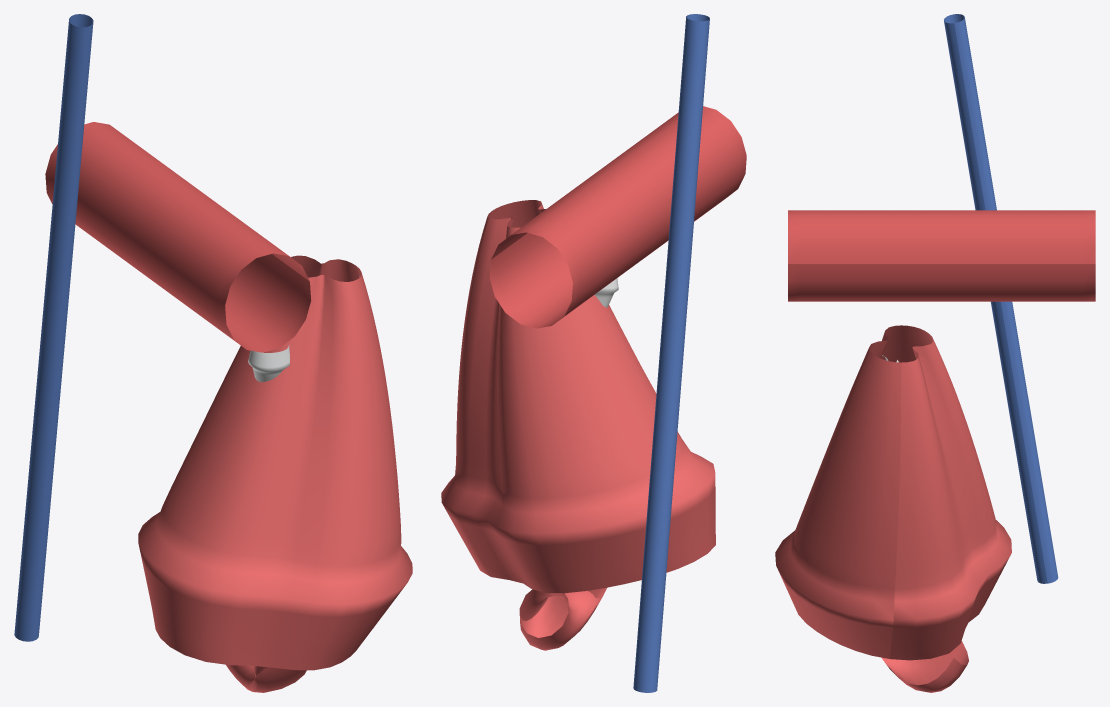
File: cardiovascular.glb
3 renders of one model, left to right at view 1: azimuth 30°, elevation 25°; view 2: azimuth 150°, elevation 25°; view 3: azimuth 270°, elevation 25°, orthographic. The views are drawn at different scales.
Parts seen in each view (by area): view 1: Mesh_Bovine_Cor, Mesh_Bovine_Aorta, Mesh_Bovine_VenaAzygosSinistra, Mesh_Bovine_OssaCordis; view 2: Mesh_Bovine_Cor, Mesh_Bovine_Aorta, Mesh_Bovine_VenaAzygosSinistra; view 3: Mesh_Bovine_Cor, Mesh_Bovine_Aorta, Mesh_Bovine_VenaAzygosSinistra.
Boxes of the visible parts, <box> form: Mesh_Bovine_Cor: <box>138,255,412,692</box>; Mesh_Bovine_Aorta: <box>45,122,311,352</box>; Mesh_Bovine_VenaAzygosSinistra: <box>14,14,93,641</box>; Mesh_Bovine_OssaCordis: <box>248,345,289,382</box>; Mesh_Bovine_Cor: <box>441,200,715,650</box>; Mesh_Bovine_Aorta: <box>489,106,746,328</box>; Mesh_Bovine_VenaAzygosSinistra: <box>633,14,709,692</box>; Mesh_Bovine_Cor: <box>775,325,1011,692</box>; Mesh_Bovine_Aorta: <box>788,210,1095,301</box>; Mesh_Bovine_VenaAzygosSinistra: <box>944,14,1058,583</box>.
Bounding box in the file's own units: 0.3895 × 0.8974 × 0.4332.
